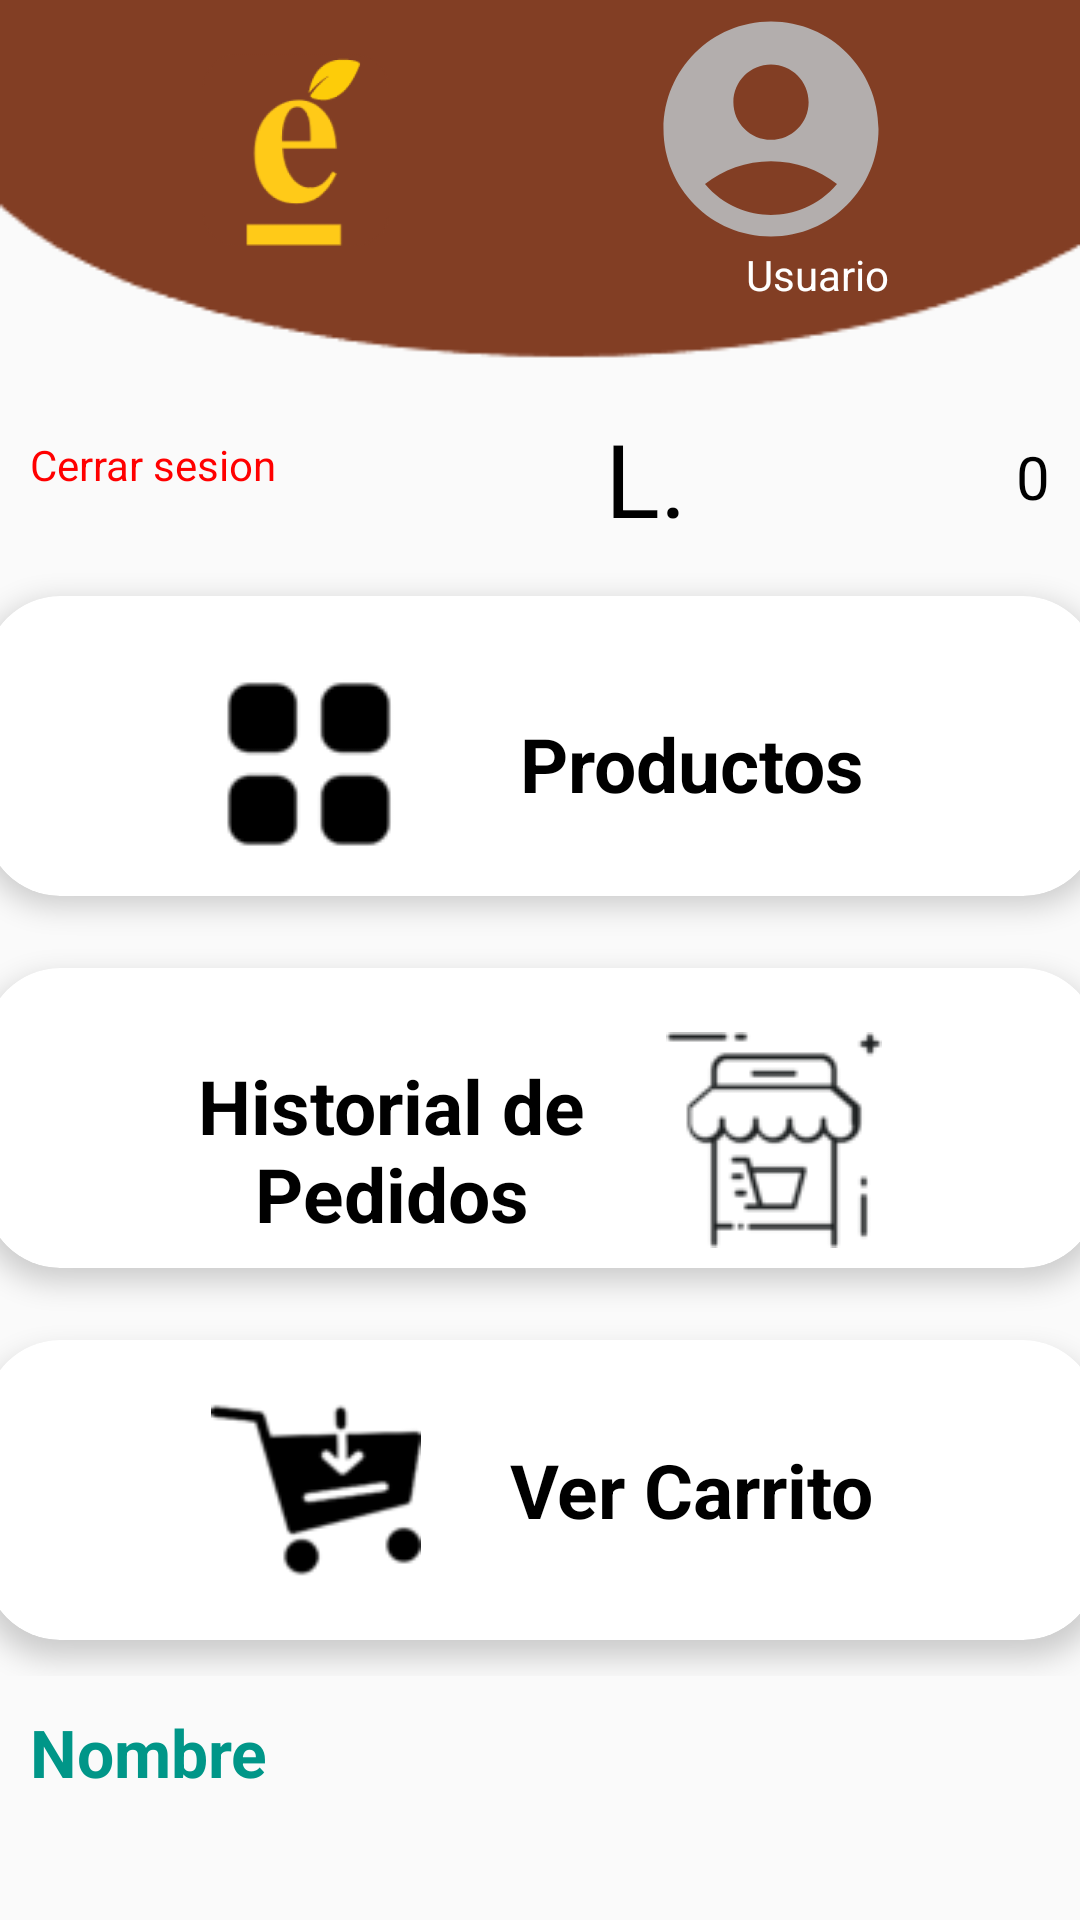

Screen size 1080 x 1920. Icon name, then its center in pixels as point (x, y):
account circle: point (771, 129)
category: point (309, 764)
shoppingcart: point (316, 1490)
